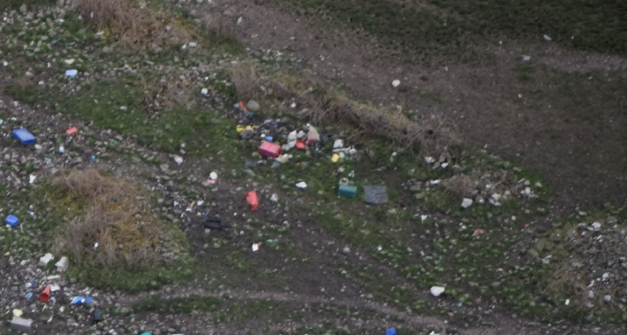scattered_barrel: (194, 177, 398, 260), (4, 60, 88, 160)
together_barrel: (3, 209, 103, 335), (234, 100, 360, 171)
white_in_green: (403, 261, 472, 317)
